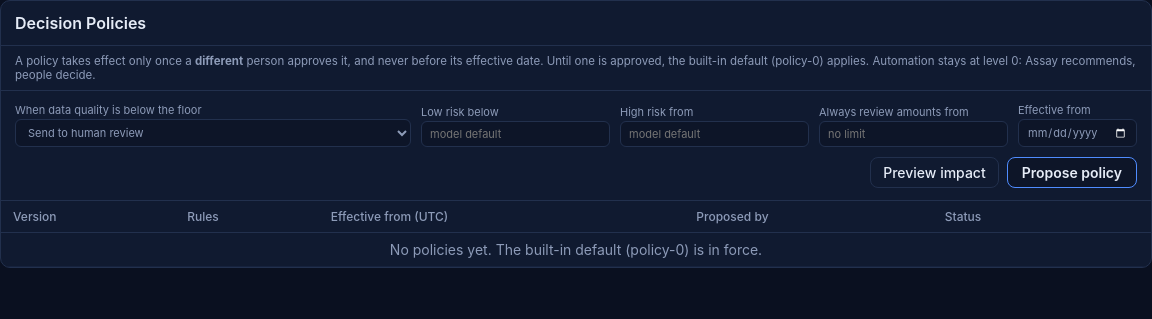
Test: PolicyPanel preview › shows the server's reason when a preview is refused
Expected: the text "No policies yet" is shown, x1=390 y1=241 x2=762 y2=258
Click the button "Preview impact": [934, 172] box x1=870 y1=157 x2=999 y2=188
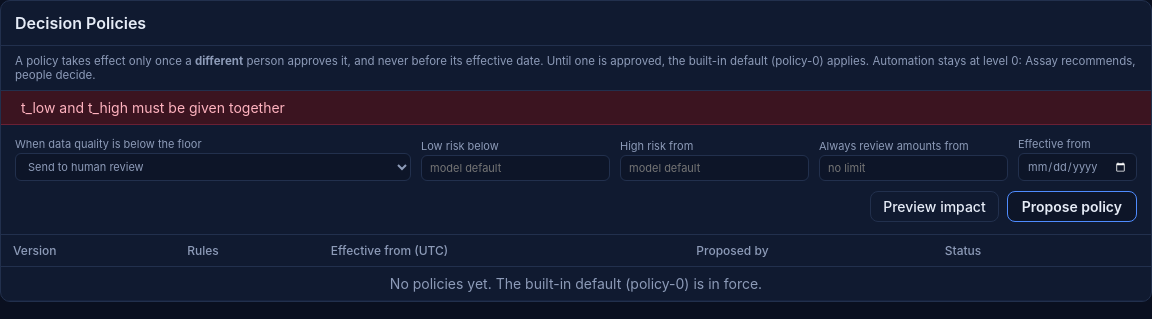
Expected: the message shows "given together", x1=21 y1=99 x2=285 y2=116
